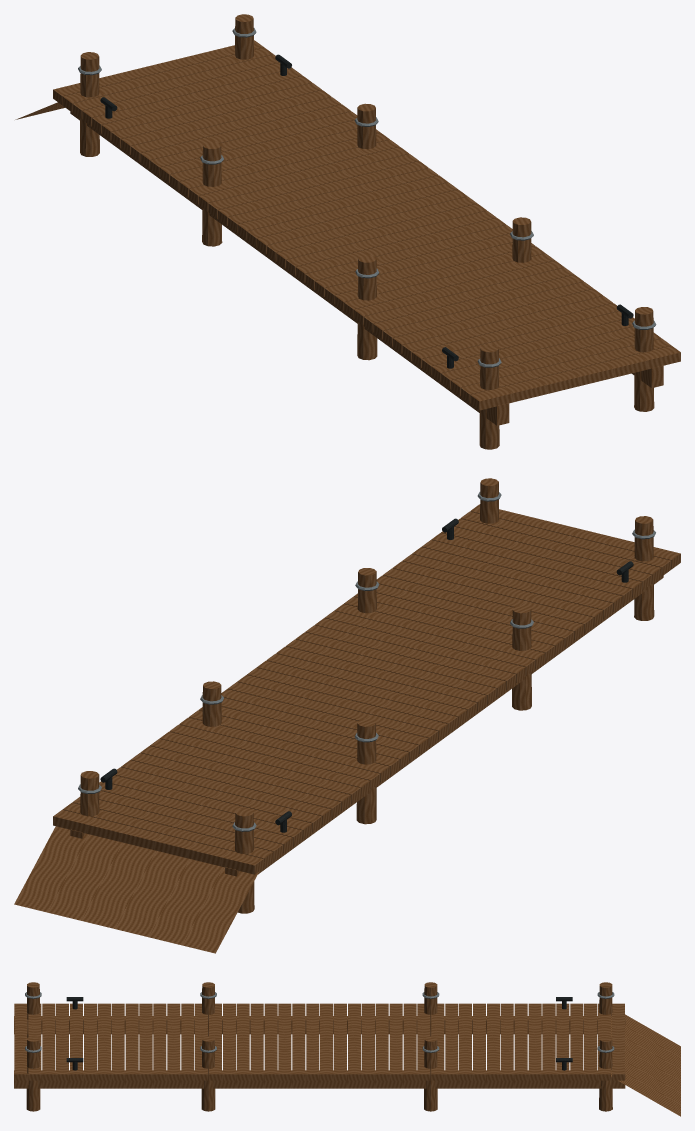
The picture shows the model from 3 angles, top to bottom: view 1: azimuth 30°, elevation 25°; view 2: azimuth 150°, elevation 25°; view 3: azimuth 270°, elevation 25°; orthographic projection. The views are drawn at different scales.
Parts seen in each view (by area): view 1: jetty; view 2: jetty; view 3: jetty.
Boxes of the visible parts, x1=… form: jetty: x1=15, y1=14, x2=680, y2=449; jetty: x1=14, y1=478, x2=680, y2=953; jetty: x1=14, y1=982, x2=680, y2=1116.
Size of the model in its own units: 3 by 1.38 by 12.
3 materials, 3 textured.
